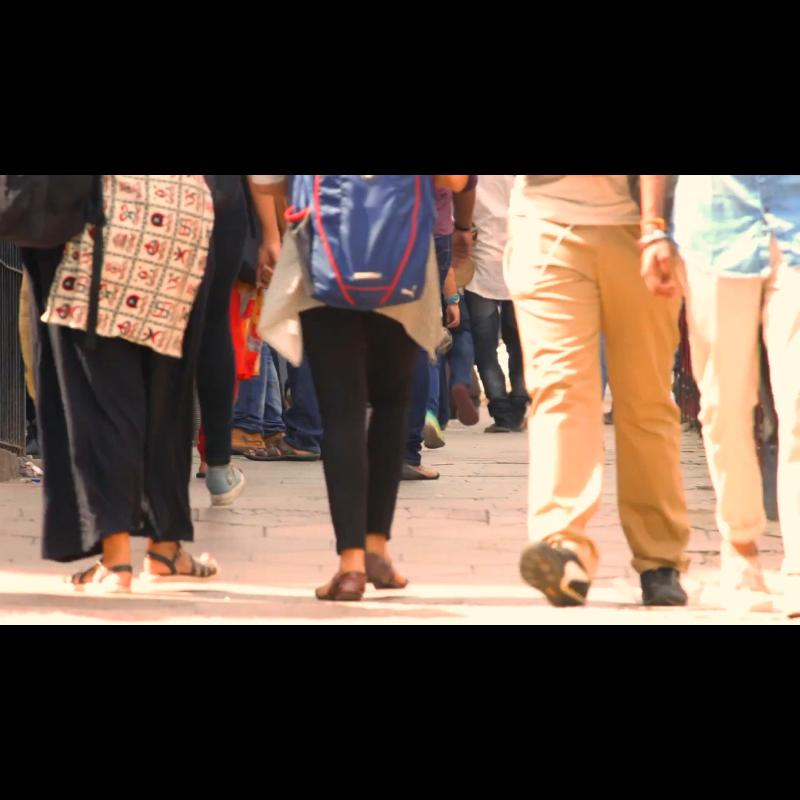Churidaar: (19, 175, 211, 563)
Pant: (497, 207, 670, 549), (682, 267, 800, 595), (298, 316, 422, 580)
Shirt: (671, 175, 800, 257)
